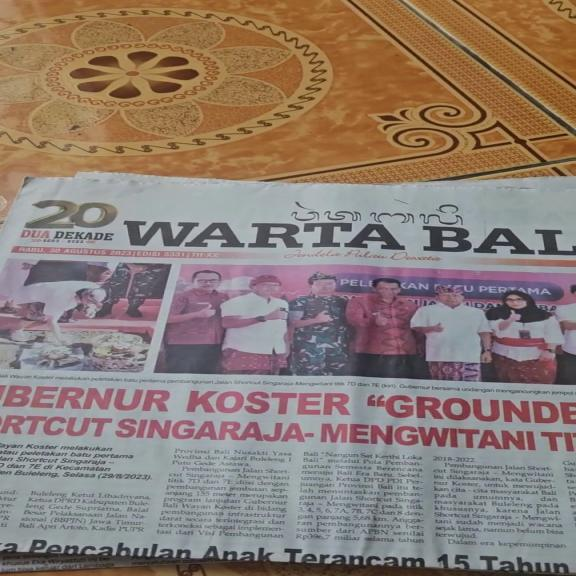Kertas: (2, 176, 566, 574)
